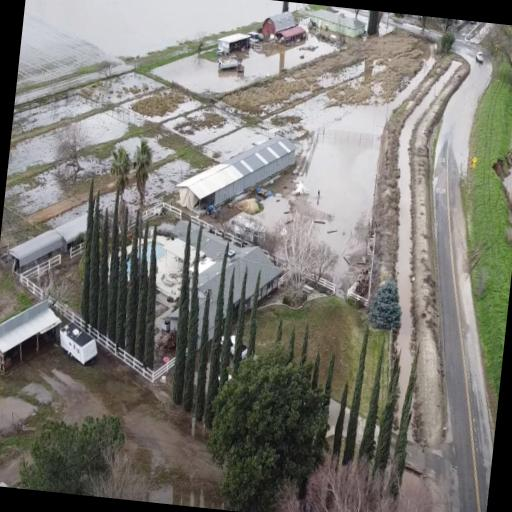flood: (15, 0, 434, 277), (11, 101, 126, 145), (4, 169, 63, 215), (7, 128, 57, 176), (77, 156, 111, 180), (147, 137, 174, 161), (116, 137, 140, 158)
house: (159, 216, 289, 353), (160, 116, 313, 224), (0, 293, 66, 383), (6, 223, 70, 294), (308, 6, 370, 42), (256, 8, 306, 50), (54, 212, 92, 258), (216, 34, 254, 67), (0, 478, 23, 489)
